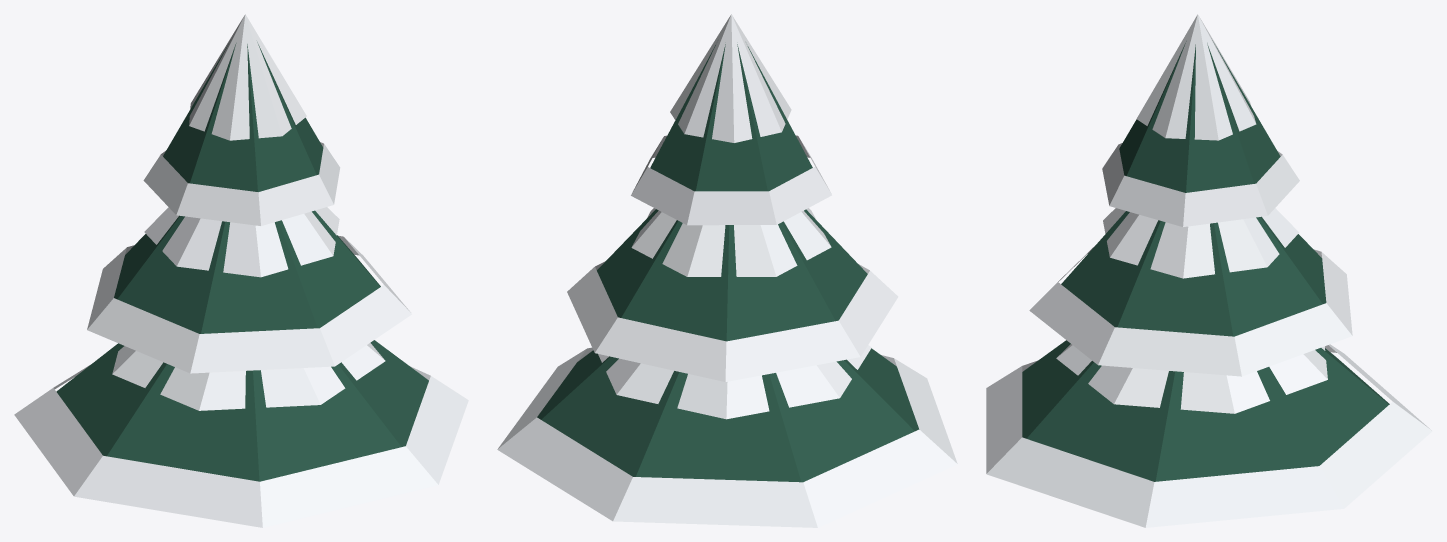
File: pine-c.glb
3 views of the same model, side by side, from view 1: azimuth 30°, elevation 25°; view 2: azimuth 150°, elevation 25°; view 3: azimuth 270°, elevation 25° (orthographic).
Visible parts, largest first — view 1: pine-c; view 2: pine-c; view 3: pine-c.
Part boxes in pixels (x1,y1,x2,y2): pine-c: (14, 14, 468, 527); pine-c: (497, 14, 957, 527); pine-c: (986, 14, 1432, 527).
Bounding box in the file's own units: 7.34 × 8.56 × 7.15.
